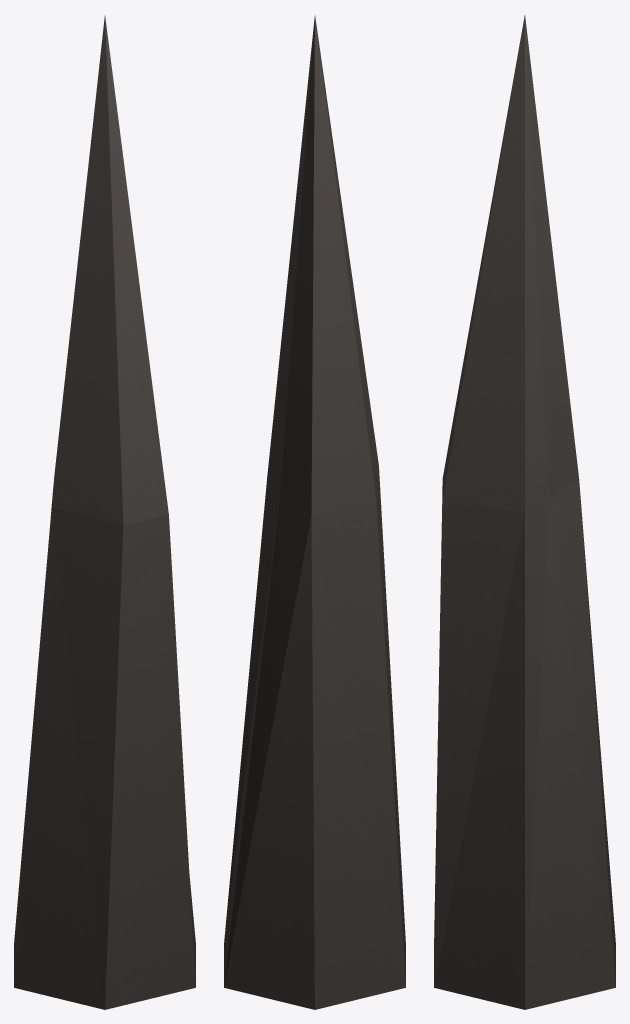
Rendered from Stal_9C.fbx.
3 views of the same model, side by side, from view 1: azimuth 30°, elevation 25°; view 2: azimuth 150°, elevation 25°; view 3: azimuth 270°, elevation 25° (orthographic).
Visible parts, largest first — view 1: pCone16; view 2: pCone16; view 3: pCone16.
Part boxes in pixels (box(x1,y1,x2,y2)): pCone16: box(14, 15, 195, 1009); pCone16: box(224, 15, 405, 1009); pCone16: box(434, 15, 615, 1009).
Bounding box in the file's own units: 54 × 270 × 46.77.
Materials: 1 (1 with a texture image).
